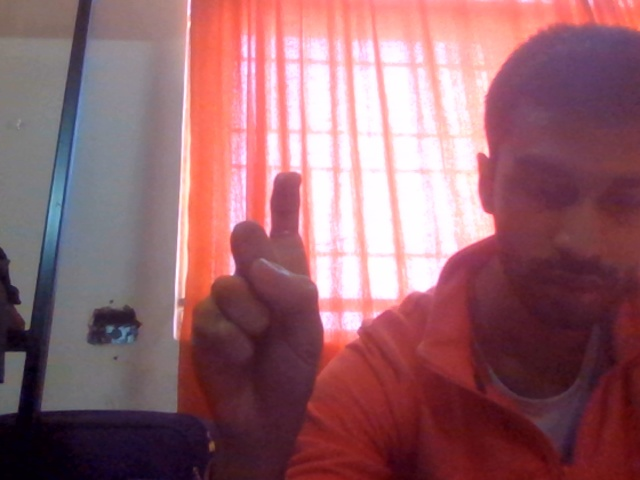X: (166, 169, 365, 480)
